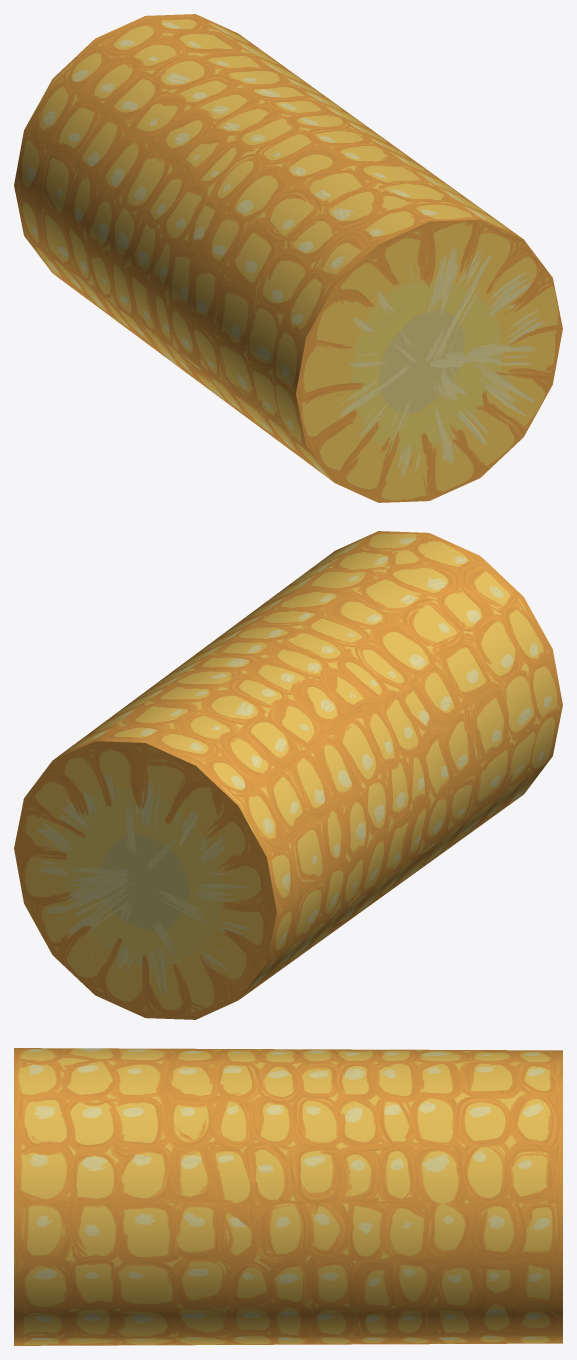
File: MaizeCob.gltf
The picture shows the model from 3 angles, top to bottom: view 1: azimuth 30°, elevation 25°; view 2: azimuth 150°, elevation 25°; view 3: azimuth 270°, elevation 25°; orthographic projection. The views are drawn at different scales.
Visible parts, largest first — view 1: maize; view 2: maize; view 3: maize.
Boxes of the visible parts, box(x1,y1,x2,y2) form: maize: box(14, 14, 562, 502); maize: box(14, 531, 562, 1019); maize: box(14, 1048, 562, 1345).
Size of the model in its own units: 0.0471 by 0.0471 by 0.0867.
1 material, 1 textured.
